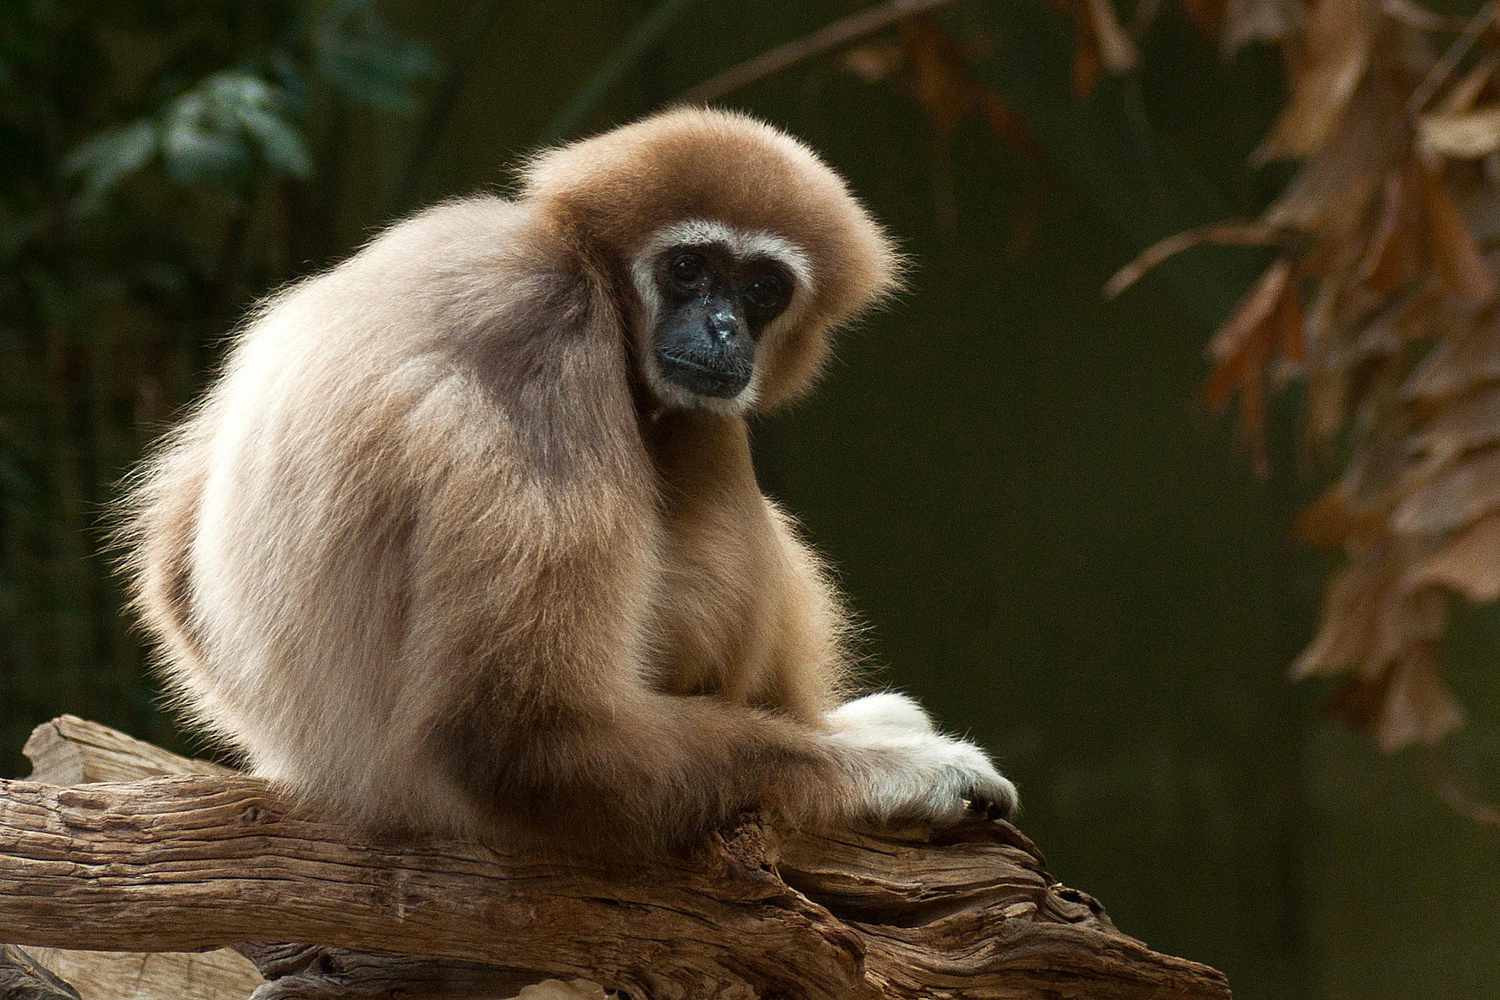ape: (95, 100, 1020, 887)
